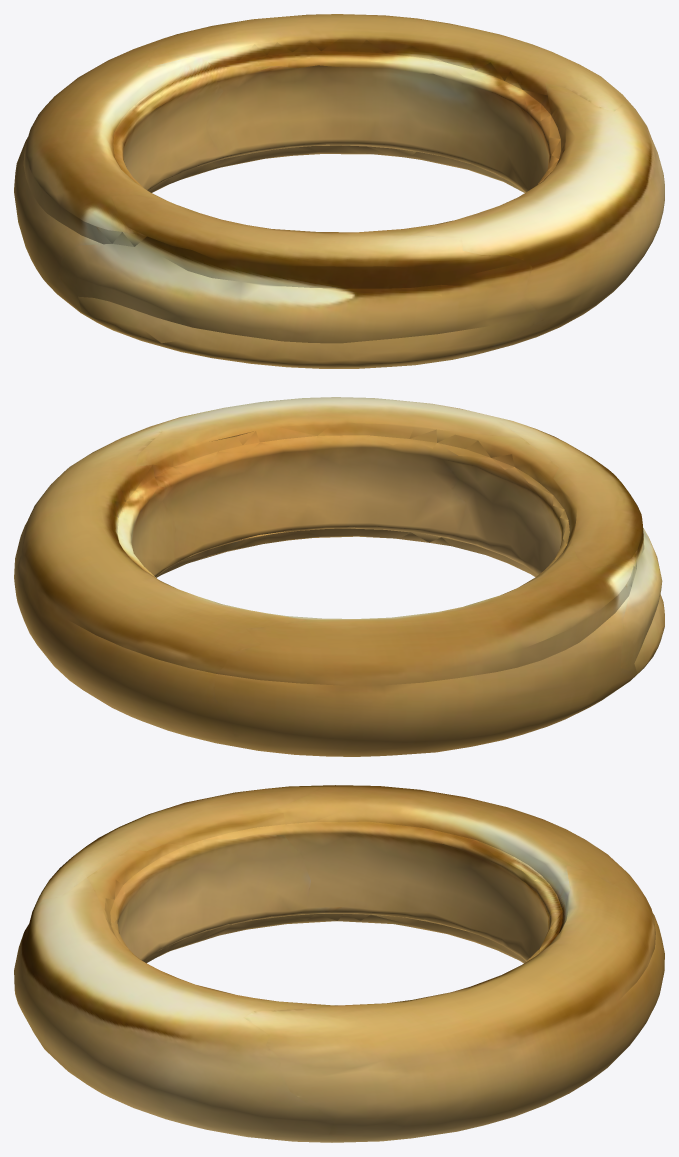
The model's file is m2ScoreRingGold.glb.
The picture shows the model from 3 angles, top to bottom: view 1: azimuth 30°, elevation 25°; view 2: azimuth 150°, elevation 25°; view 3: azimuth 270°, elevation 25°; orthographic projection.
Visible parts, largest first — view 1: model; view 2: model; view 3: model.
Part boxes in pixels (<box>): model: <box>14,14,664,368</box>; model: <box>14,397,664,756</box>; model: <box>14,785,664,1142</box>.
Bounding box in the file's own units: 1.9 × 0.4073 × 1.9.
Materials: 1 (1 with a texture image).
